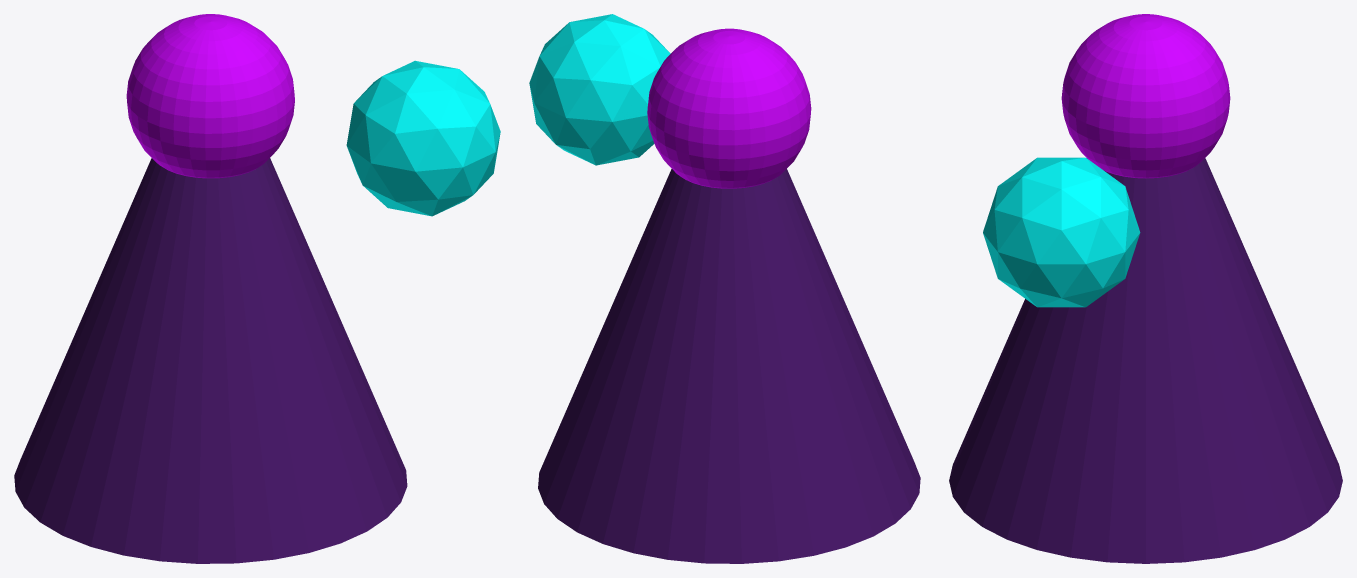
The model's file is void_mage.obj.
3 views of the same model, side by side, from view 1: azimuth 30°, elevation 25°; view 2: azimuth 150°, elevation 25°; view 3: azimuth 270°, elevation 25° (orthographic). The views are drawn at different scales.
Visible parts, largest first — view 1: Cone, Sphere, Icosphere; view 2: Cone, Sphere, Icosphere; view 3: Cone, Sphere, Icosphere.
Boxes of the visible parts, x1,y1,x2,y2 form: Cone: (14,158,407,563); Sphere: (126,14,294,178); Icosphere: (346,60,500,216); Cone: (538,169,920,563); Sphere: (647,28,811,188); Icosphere: (529,14,670,165); Cone: (949,158,1342,563); Sphere: (1061,14,1230,178); Icosphere: (983,157,1140,307).
Size of the model in its own units: 1.67 by 1.8 by 1.4.
